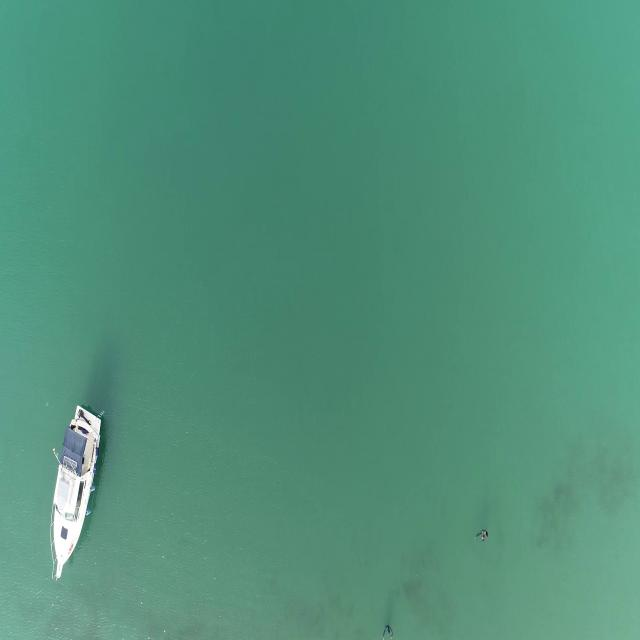boat: (46, 404, 106, 582)
person: (474, 524, 490, 546), (381, 624, 395, 640)
